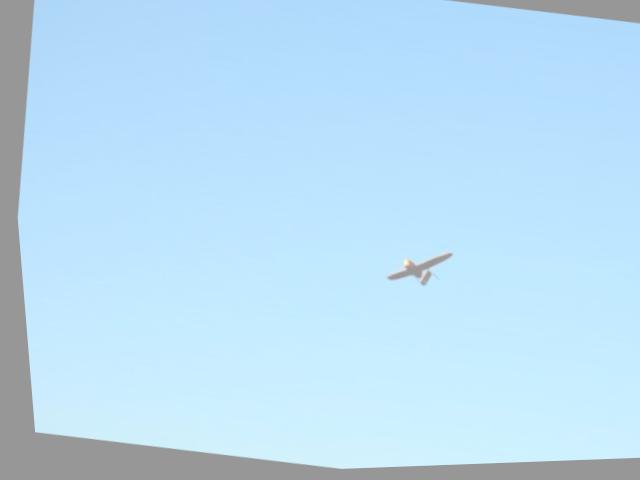iha: (374, 246, 450, 299)
